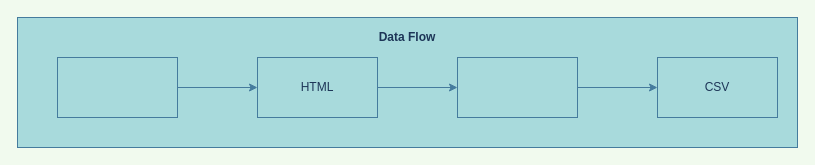
This 815x165 diagram has some shape labels left out. The shapes that lost their labels are listed below. From the top down, each one's centre as x and y in pixels, then its label:
At (117,87): "URL".
At (517,87): "Model".
